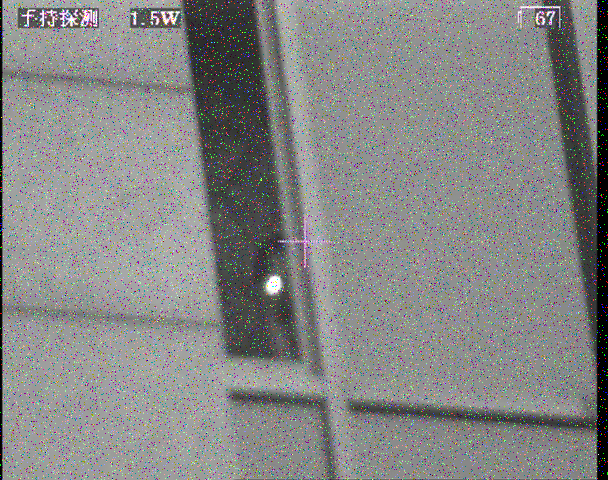my: (263, 273, 283, 295)
